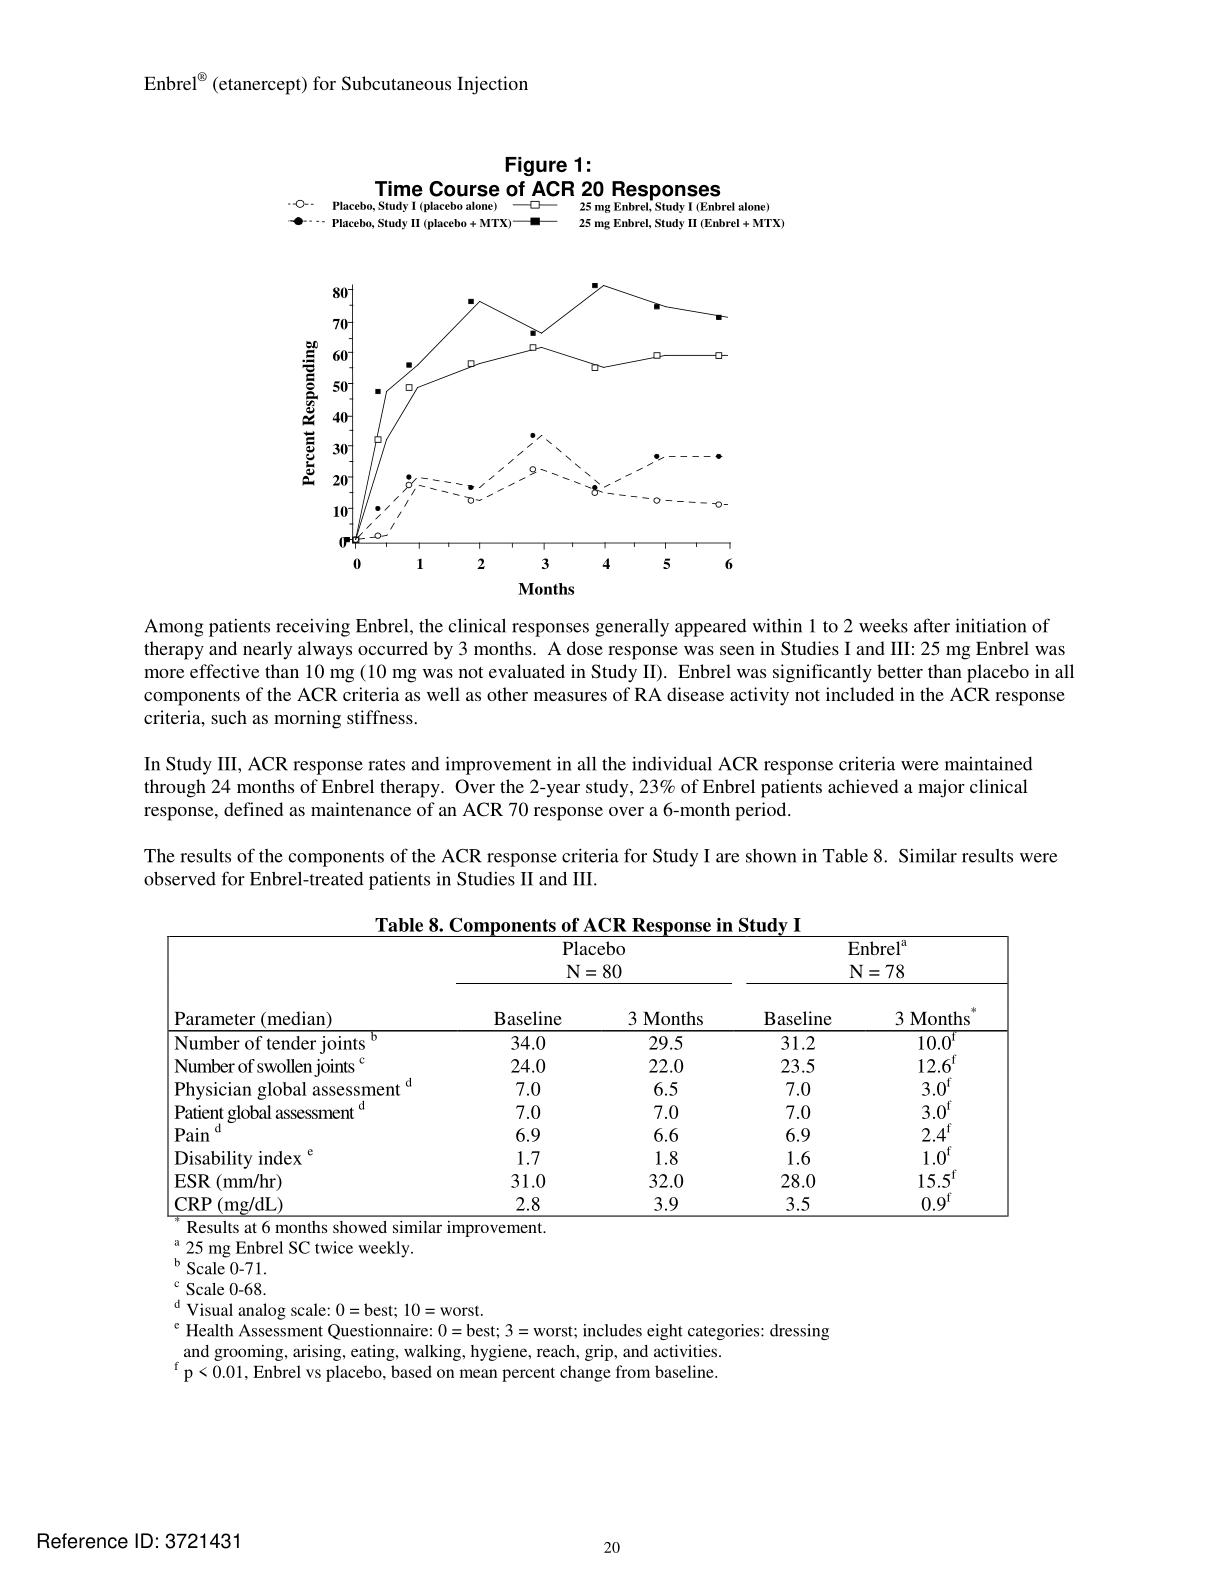partial_lined_merged_cells: (166, 933, 1011, 1218)
